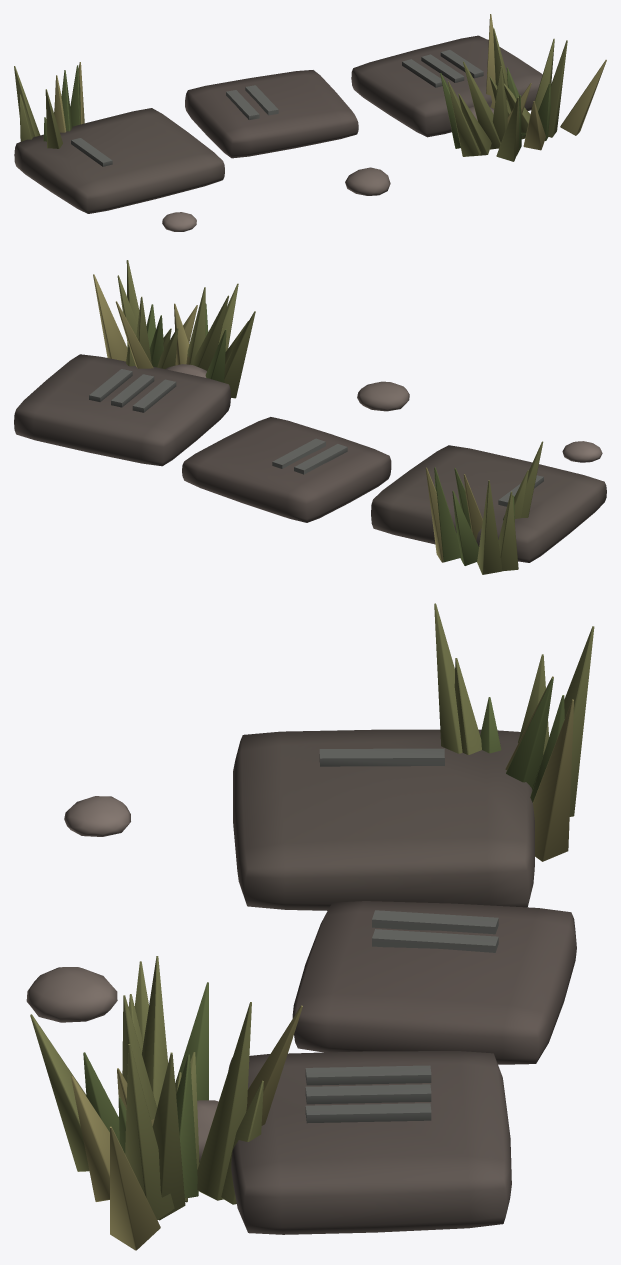
File: stair_stones_c.glb
3 views of the same model, one above another, from view 1: azimuth 30°, elevation 25°; view 2: azimuth 150°, elevation 25°; view 3: azimuth 270°, elevation 25° (orthographic). The views are drawn at different scales.
Visible parts, largest first — view 1: Surface; view 2: Surface; view 3: Surface.
Boxes of the visible parts, x1,y1,x2,y2 form: Surface: [14, 14, 606, 231]; Surface: [14, 260, 606, 574]; Surface: [26, 603, 594, 1250].
Bounding box in the file's own units: 2.55 × 0.4938 × 1.27.
